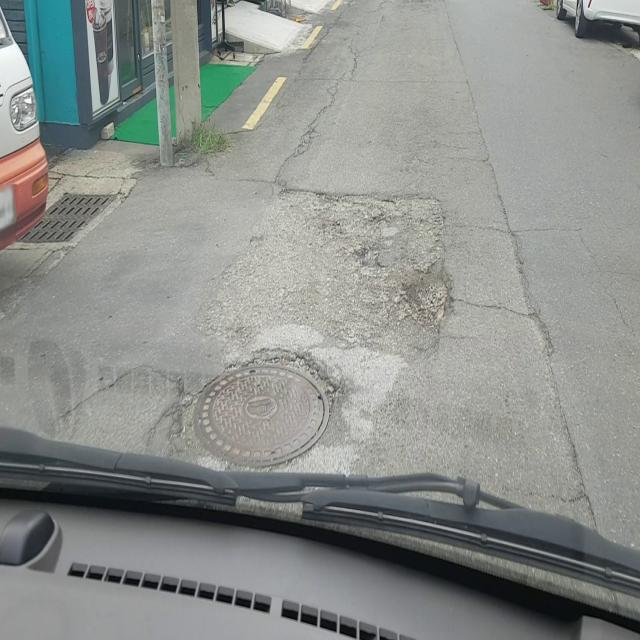Pothole: (191, 350, 343, 472)
